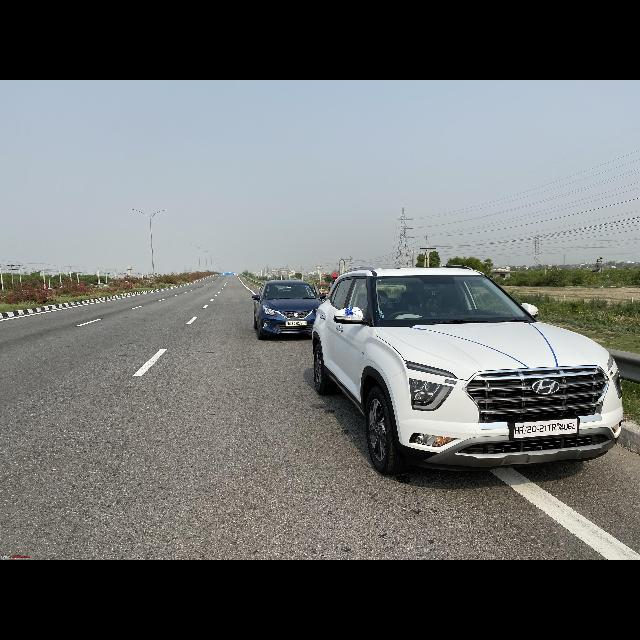vehicles: (342, 266, 608, 468), (251, 279, 319, 339)
